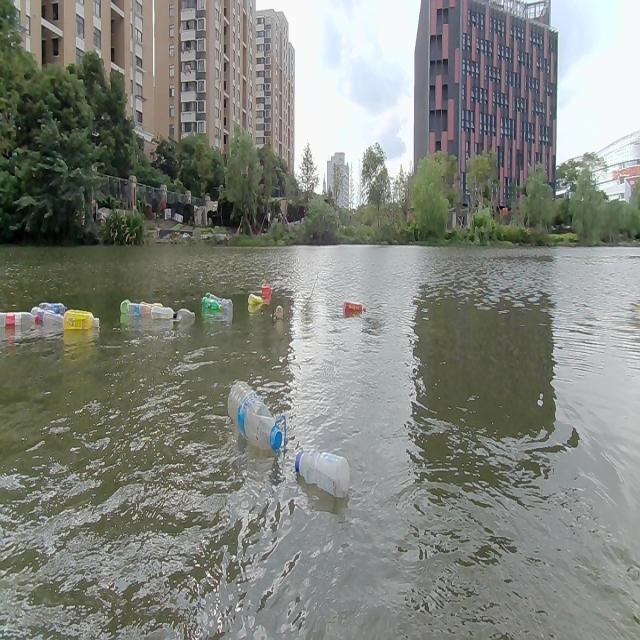bottle: (220, 374, 286, 452), (292, 446, 350, 495), (1, 312, 39, 334), (33, 306, 63, 330), (340, 295, 365, 321), (64, 311, 92, 329), (152, 302, 175, 323), (39, 302, 69, 318), (120, 300, 142, 316), (247, 291, 265, 310), (130, 305, 150, 322), (202, 295, 220, 309), (176, 308, 194, 322), (217, 298, 233, 313), (260, 282, 274, 295), (276, 301, 283, 319)
